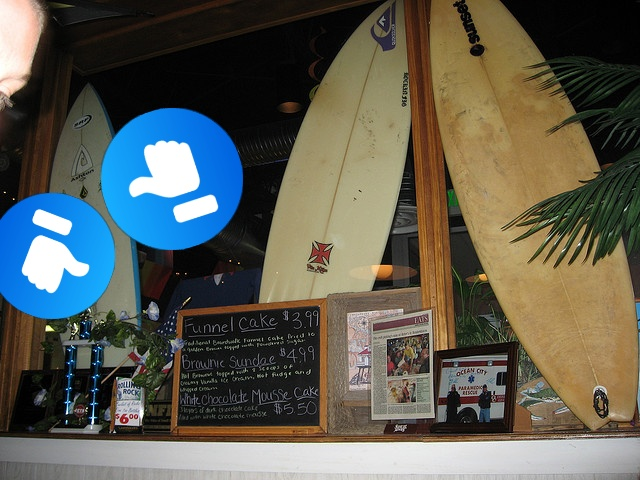like: (101, 108, 243, 250), (0, 193, 115, 319)
